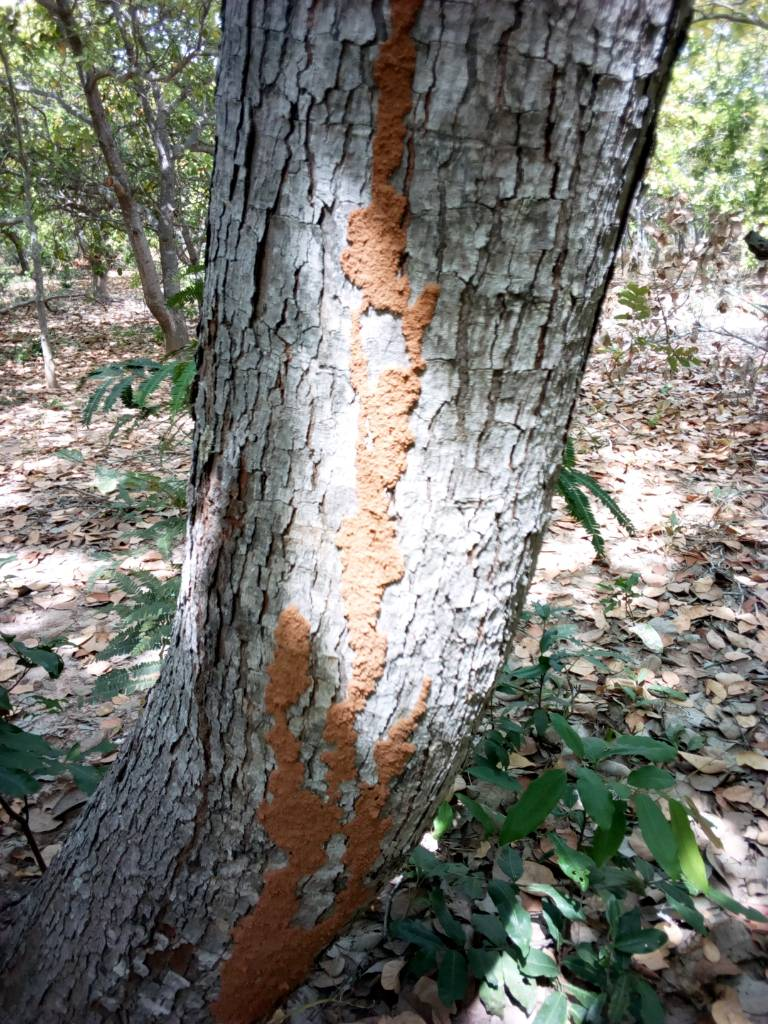Virose: (176, 72, 485, 999)
